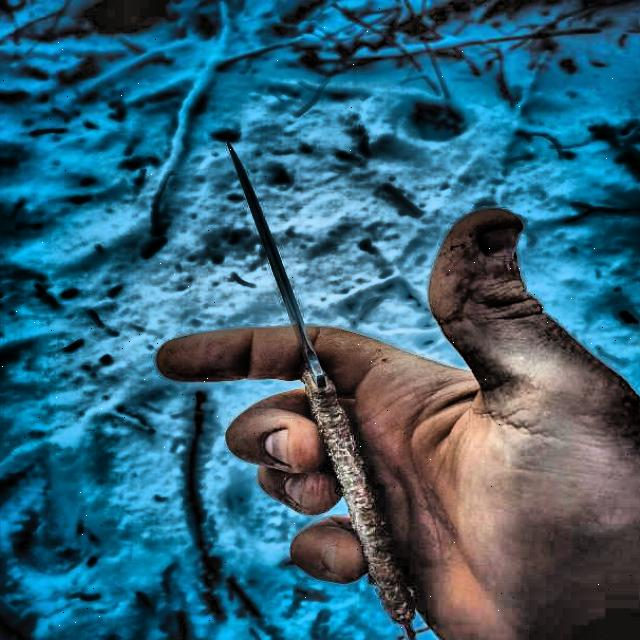knife: (222, 139, 438, 640)
